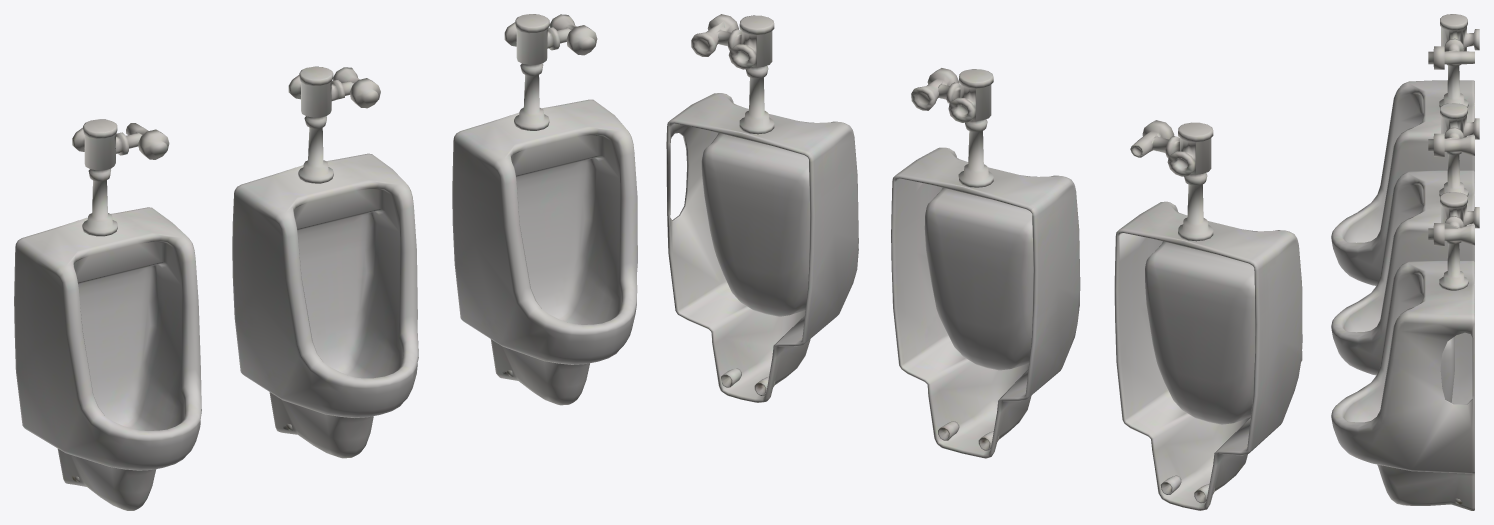
File: Urinals.glb
3 views of the same model, side by side, from view 1: azimuth 30°, elevation 25°; view 2: azimuth 150°, elevation 25°; view 3: azimuth 270°, elevation 25° (orthographic). The views are drawn at different scales.
Visible parts, largest first — view 1: material; view 2: material; view 3: material.
Boxes of the visible parts, <box> form: material: <box>14,14,637,510</box>; material: <box>666,14,1302,510</box>; material: <box>1331,14,1479,510</box>.
Size of the model in its own units: 1.9 by 1.13 by 0.496.
1 material, 1 textured.
